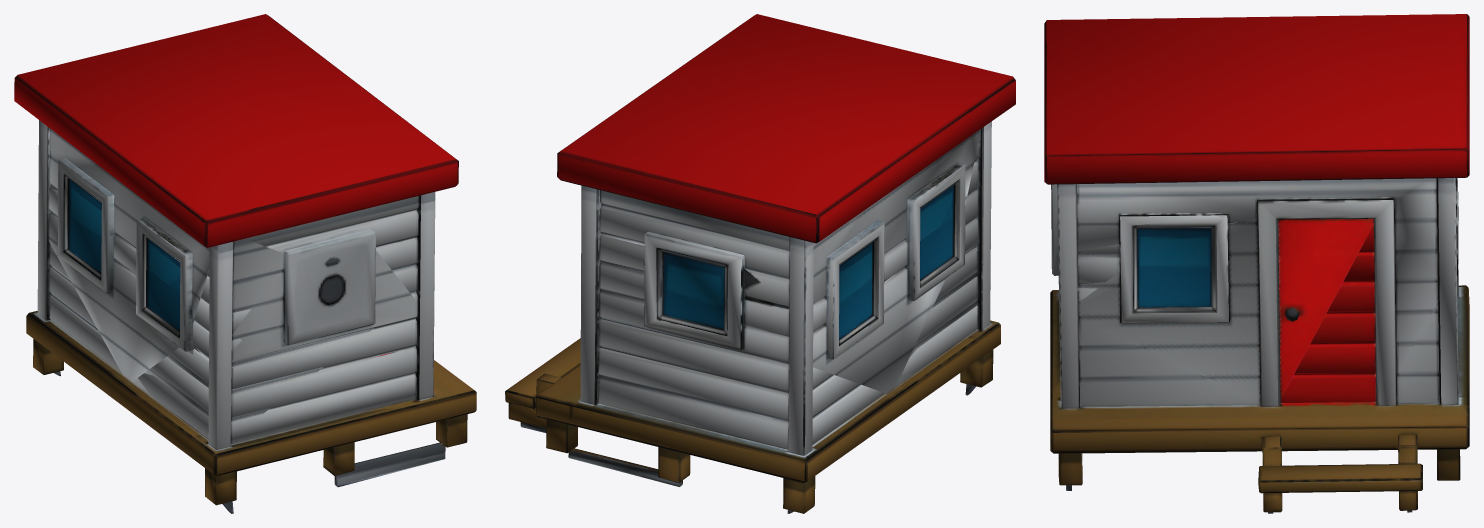
The model's file is hut.glb.
3 views of the same model, side by side, from view 1: azimuth 30°, elevation 25°; view 2: azimuth 150°, elevation 25°; view 3: azimuth 270°, elevation 25° (orthographic). The views are drawn at different scales.
Parts seen in each view (by area): view 1: tripo_node_04ff0f68-4cbb-4b7c-906e-29fa94ce7af7; view 2: tripo_node_04ff0f68-4cbb-4b7c-906e-29fa94ce7af7; view 3: tripo_node_04ff0f68-4cbb-4b7c-906e-29fa94ce7af7.
Boxes of the visible parts, <box> form: tripo_node_04ff0f68-4cbb-4b7c-906e-29fa94ce7af7: <box>14,14,476,513</box>; tripo_node_04ff0f68-4cbb-4b7c-906e-29fa94ce7af7: <box>505,14,1015,513</box>; tripo_node_04ff0f68-4cbb-4b7c-906e-29fa94ce7af7: <box>1044,14,1469,513</box>.
Bounding box in the file's own units: 4.33 × 4 × 4.43.
1 material, 1 textured.
